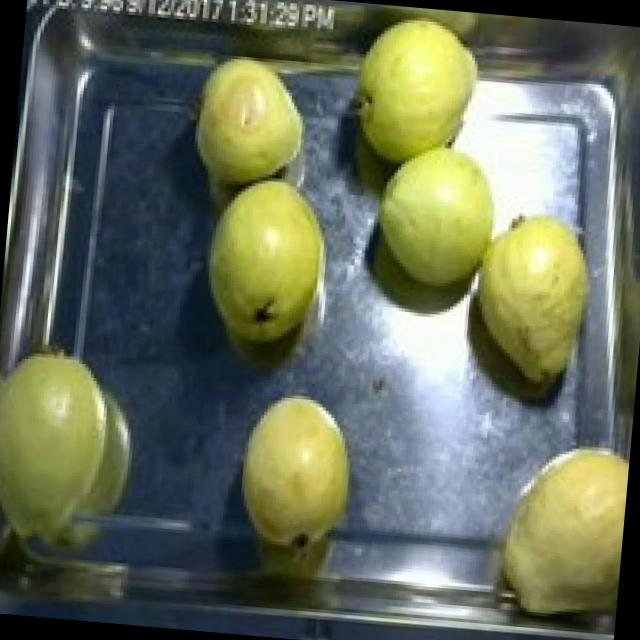Fruit: (0, 333, 157, 599), (445, 191, 619, 409), (478, 419, 632, 638), (359, 129, 525, 330), (189, 162, 346, 360), (345, 2, 498, 192), (226, 380, 368, 561), (180, 48, 324, 200)
